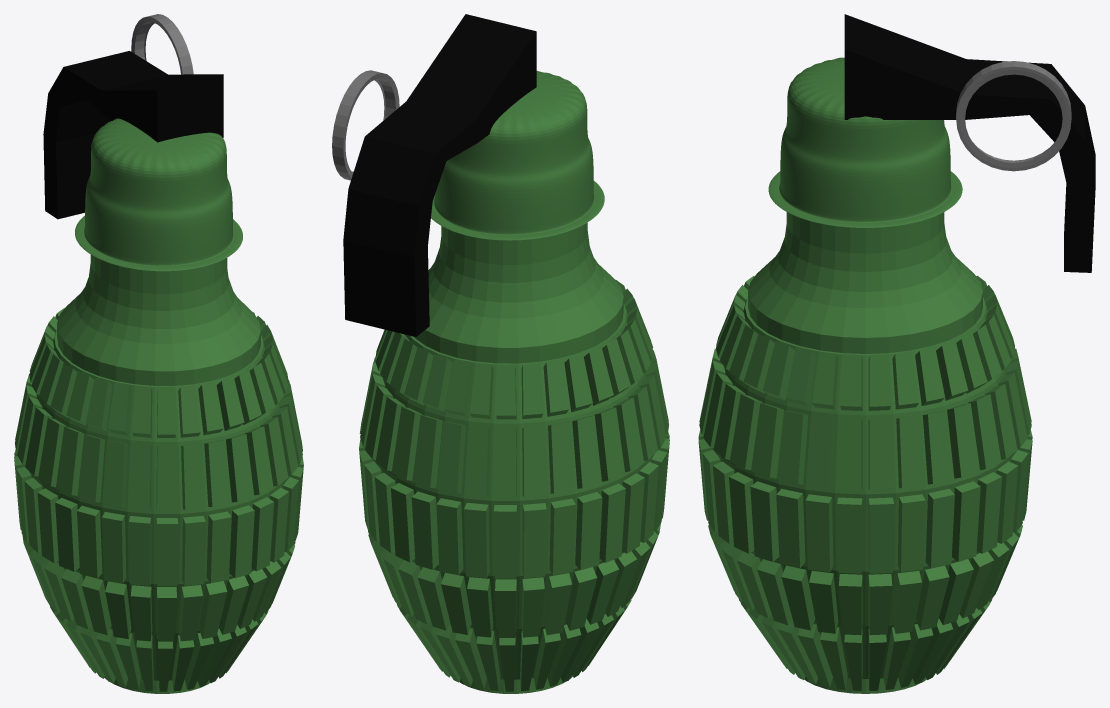
The model's file is WesterianDefense Mark I Grenade.fbx.
3 renders of one model, left to right at view 1: azimuth 30°, elevation 25°; view 2: azimuth 150°, elevation 25°; view 3: azimuth 270°, elevation 25°, orthographic. The views are drawn at different scales.
Parts seen in each view (by area): view 1: Grenade, PinCover, Pin, PinHolder; view 2: Grenade, Pin, PinCover, PinHolder; view 3: Grenade, PinCover, Pin, PinHolder.
Part boxes in pixels (x1,y1,x2,y2): Grenade: (14, 254, 303, 693); PinCover: (75, 118, 242, 271); Pin: (43, 51, 223, 219); PinHolder: (131, 14, 193, 74); Grenade: (359, 222, 669, 693); Pin: (343, 14, 536, 336); PinCover: (431, 71, 604, 240); PinHolder: (332, 70, 399, 180); Grenade: (698, 212, 1032, 693); PinCover: (768, 57, 962, 227); Pin: (844, 14, 1095, 272); PinHolder: (956, 61, 1071, 171).
Bounding box in the file's own units: 0.2108 × 0.4789 × 0.2667.
